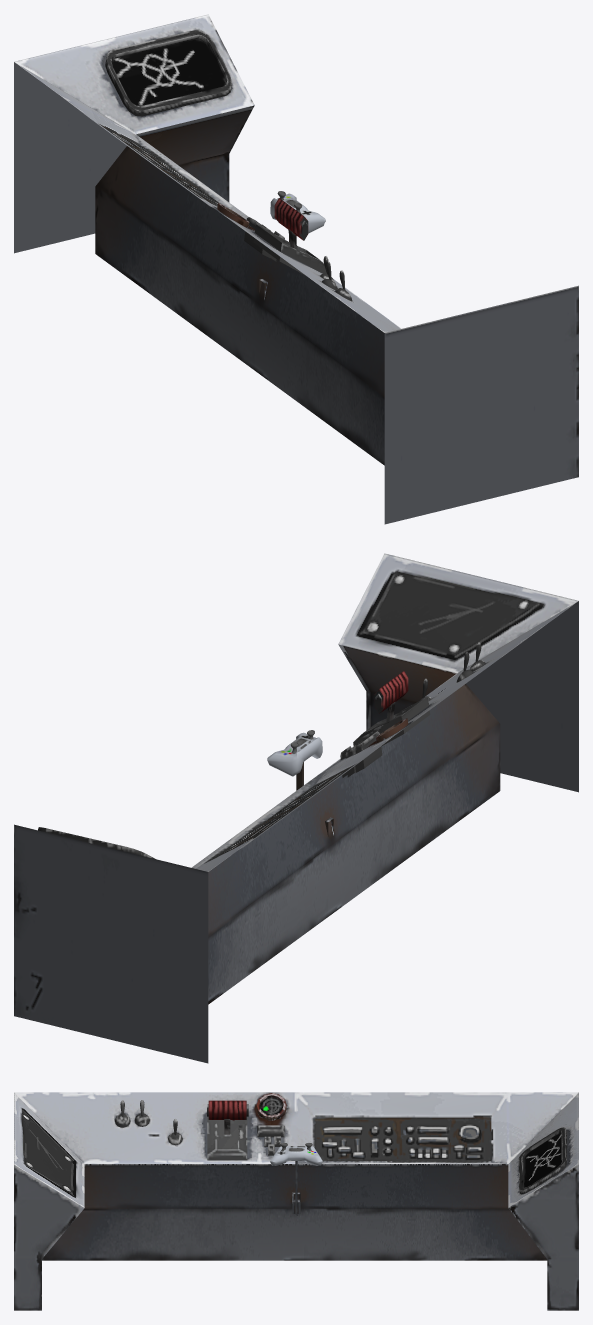
Rendered from PROP_002_PilotController.fbx.
The picture shows the model from 3 angles, top to bottom: view 1: azimuth 30°, elevation 25°; view 2: azimuth 150°, elevation 25°; view 3: azimuth 270°, elevation 25°; orthographic projection. The views are drawn at different scales.
Parts seen in each view (by area): view 1: Control_Piloto; view 2: Control_Piloto; view 3: Control_Piloto.
Part boxes in pixels (x1,y1,x2,y2): Control_Piloto: (14,14,578,524); Control_Piloto: (14,553,578,1063); Control_Piloto: (14,1092,578,1310).
Size of the model in its own units: 1 by 1 by 3.3.
Materials: 1 (1 with a texture image).
